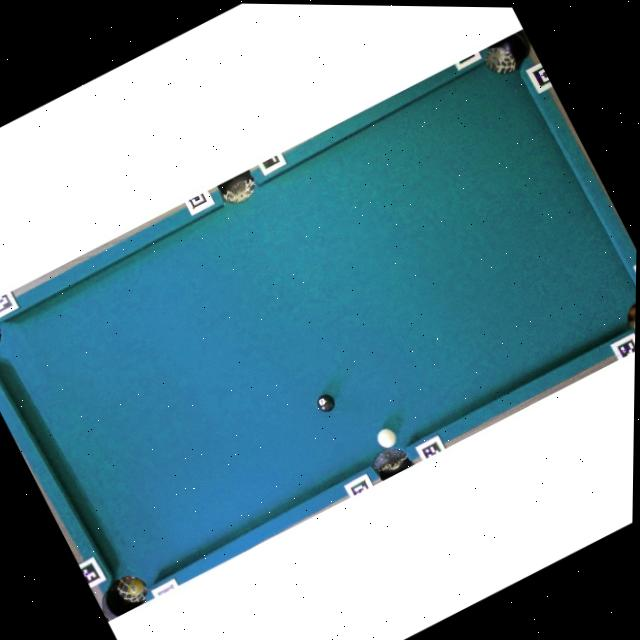cue ball: (373, 424, 400, 452)
other: (313, 389, 338, 415)
